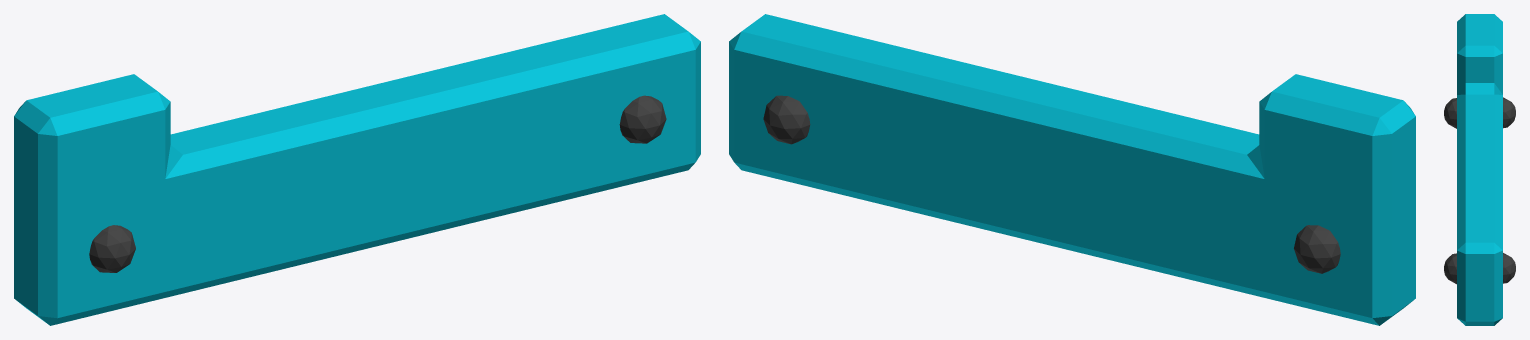
Rendered from BarLG.fbx.
3 renders of one model, left to right at view 1: azimuth 30°, elevation 25°; view 2: azimuth 150°, elevation 25°; view 3: azimuth 270°, elevation 25°, orthographic. The views are drawn at different scales.
Visible parts, largest first — view 1: BarG; view 2: BarG; view 3: BarG.
Boxes of the visible parts, x1,y1,x2,y2 form: BarG: [14, 14, 700, 325]; BarG: [729, 14, 1415, 325]; BarG: [1444, 14, 1515, 325].
Bounding box in the file's own units: 1000 × 300 × 157.
